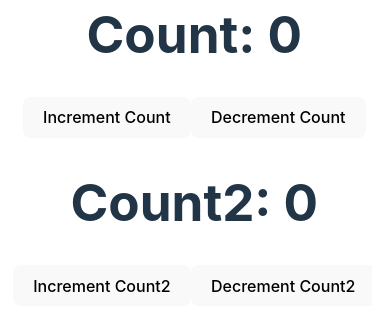
Test case: App › Second count2 is incrementing correctly
Expected: the heading with test id "count2 display" reads "Count2: 0", [70,174,318,231]
What coordinates should you click on to do the following:
click the button "Increment Count2"
I would click on:
 (102, 286)
Its box is [13,265,191,306].
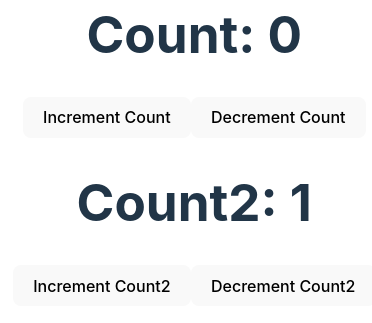
Result: the heading with test id "count2 display" reads "Count2: 1" at [77,174,312,231]
What coordinates should you click on to do the following:
click the button "Increment Count2"
I would click on:
 (102, 286)
Its box is [13,265,191,306].
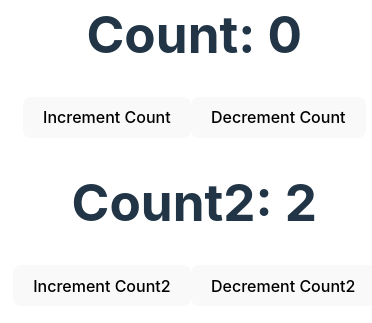
Result: the heading with test id "count2 display" reads "Count2: 2" at [72,174,317,231]
